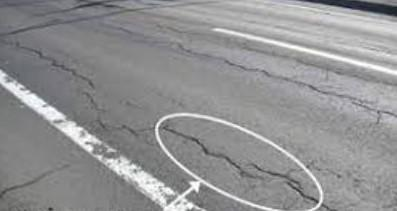crack: (166, 122, 335, 208), (236, 60, 396, 120), (4, 36, 105, 88), (8, 2, 159, 32), (82, 91, 149, 135), (0, 161, 76, 199), (152, 36, 229, 65)
